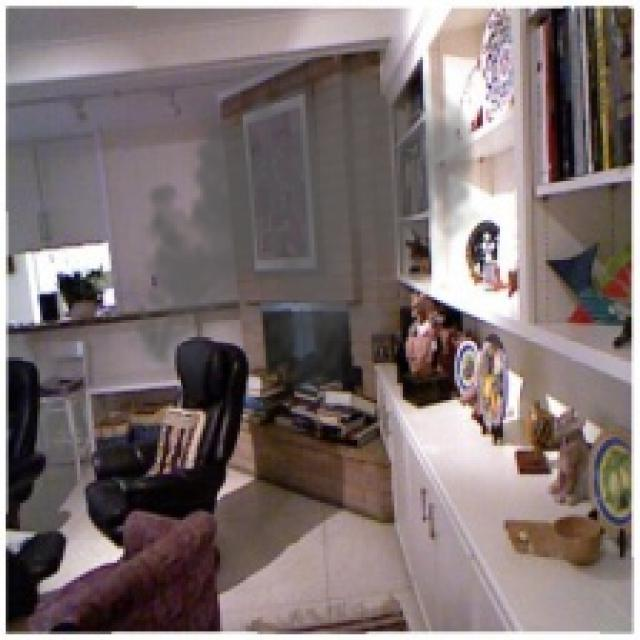smoke: (123, 40, 483, 406)
